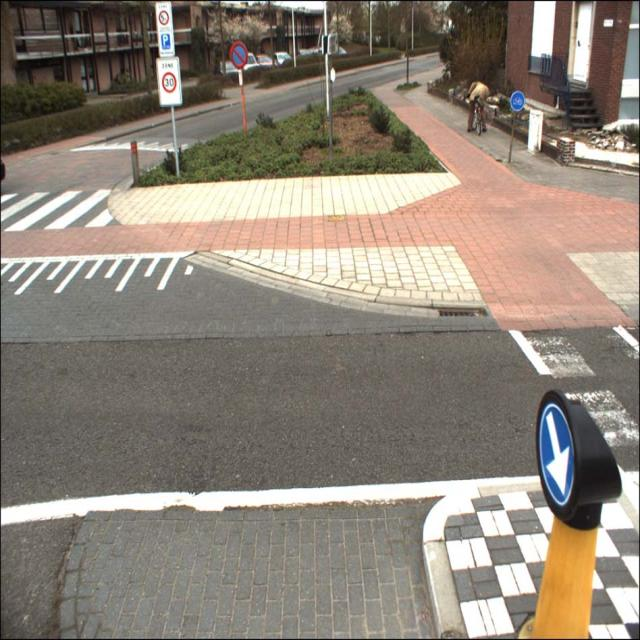parkyasak: (229, 41, 248, 69)
